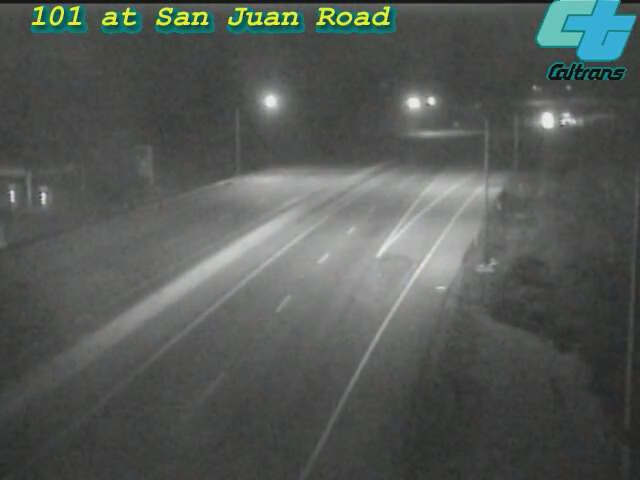vehicle: (543, 95, 593, 145), (520, 97, 570, 147)
